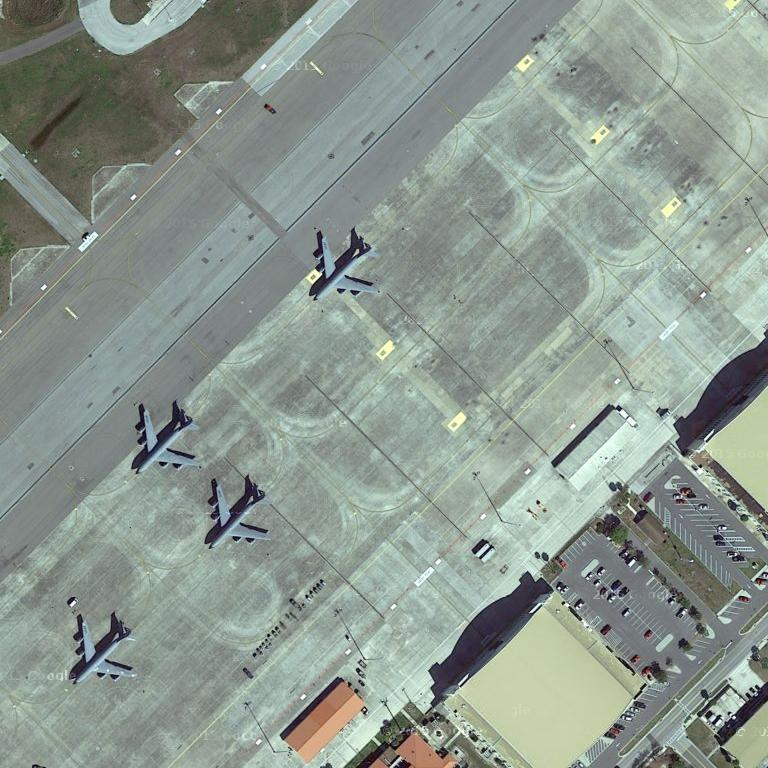KC-135: (127, 400, 206, 480), (67, 607, 142, 688), (201, 474, 276, 553), (304, 232, 381, 302)
